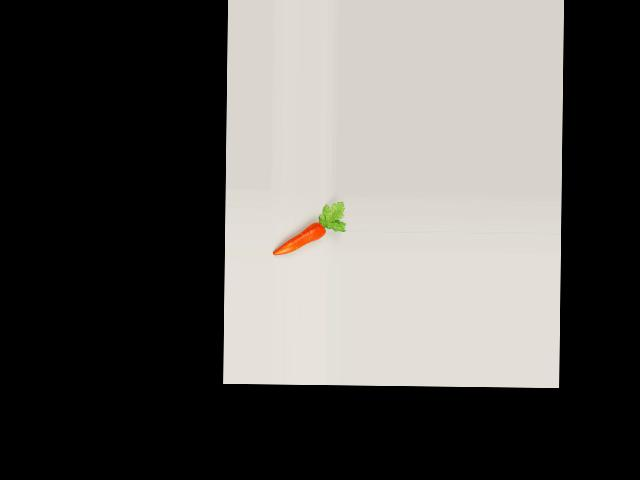carrot: (269, 215, 332, 257)
